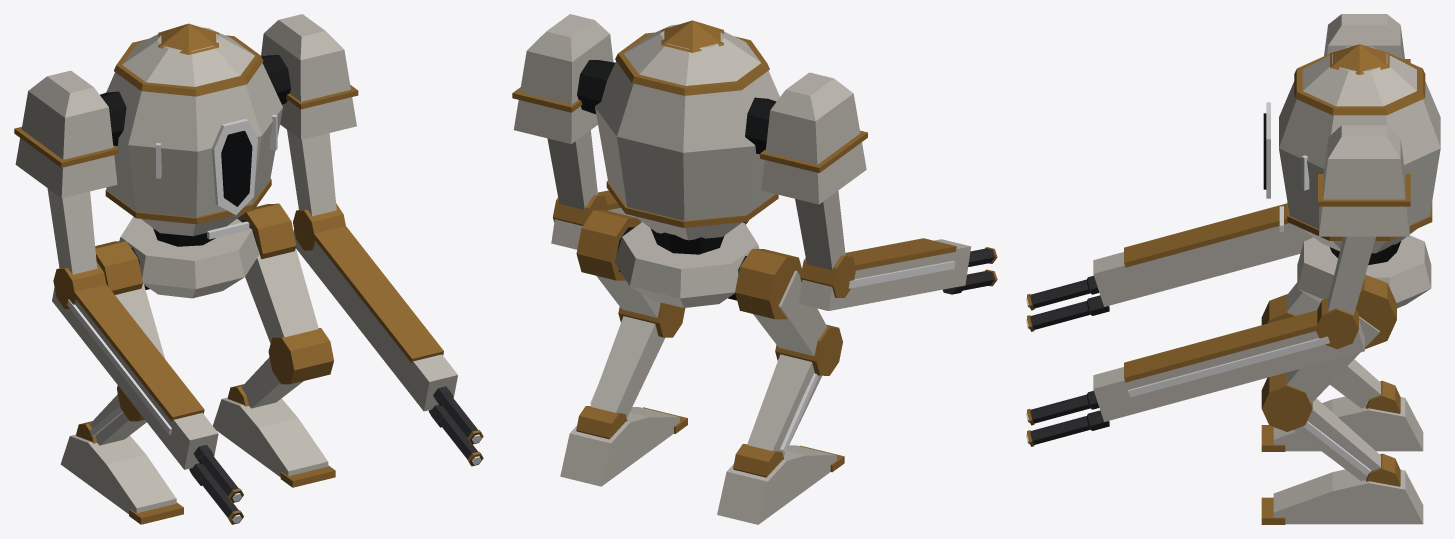
File: striker_t2.glb
3 renders of one model, left to right at view 1: azimuth 30°, elevation 25°; view 2: azimuth 150°, elevation 25°; view 3: azimuth 270°, elevation 25°, orthographic. The views are drawn at different scales.
Parts seen in each view (by area): view 1: body; view 2: body; view 3: body.
Part boxes in pixels (left/top/right/bottom): body: left=14, top=14, right=483, bottom=524; body: left=512, top=14, right=997, bottom=524; body: left=1026, top=14, right=1440, bottom=524.
Bounding box in the file's own units: 3.72 × 5.28 × 4.57.
